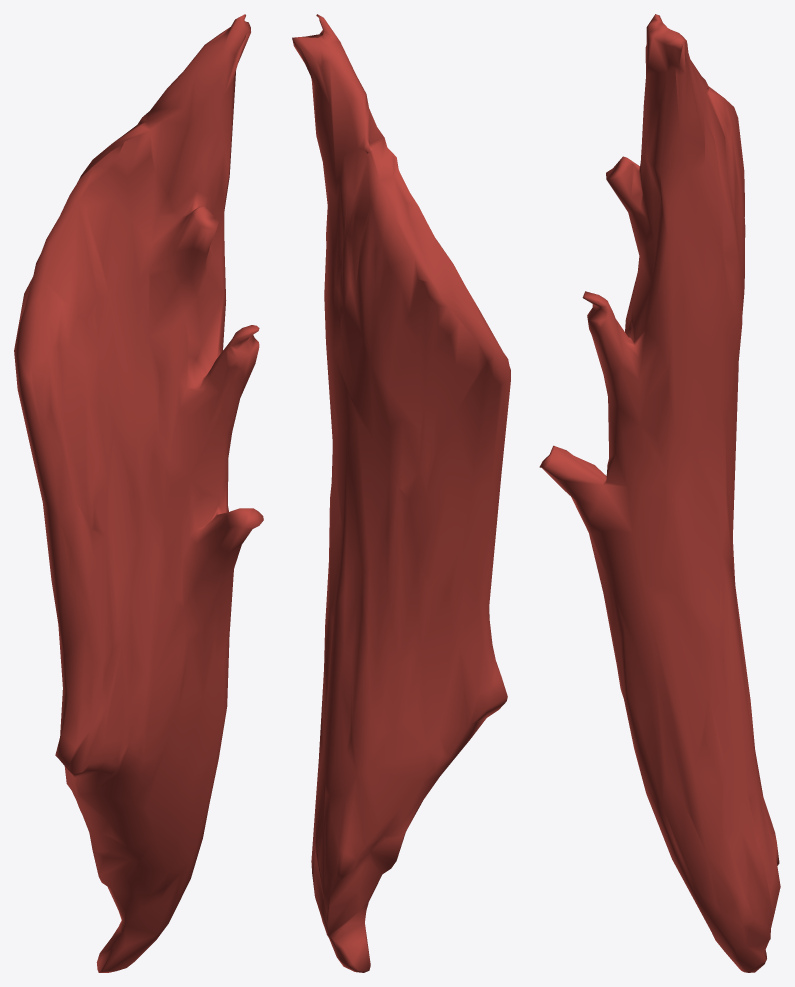
The model's file is musculos-quadratus-lumborum-muscle-r.glb.
3 renders of one model, left to right at view 1: azimuth 30°, elevation 25°; view 2: azimuth 150°, elevation 25°; view 3: azimuth 270°, elevation 25°, orthographic. The views are drawn at different scales.
Parts seen in each view (by area): view 1: Quadratus lumborum muscle.r; view 2: Quadratus lumborum muscle.r; view 3: Quadratus lumborum muscle.r.
Part boxes in pixels (bbox=[...]): Quadratus lumborum muscle.r: bbox=[14, 14, 263, 972]; Quadratus lumborum muscle.r: bbox=[292, 14, 510, 972]; Quadratus lumborum muscle.r: bbox=[539, 14, 780, 972].
Size of the model in its own units: 0.0514 by 0.2064 by 0.0452.
